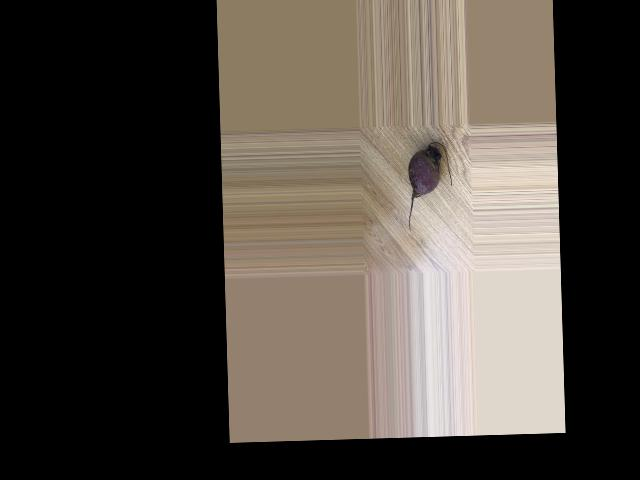beet: (406, 141, 452, 231)
